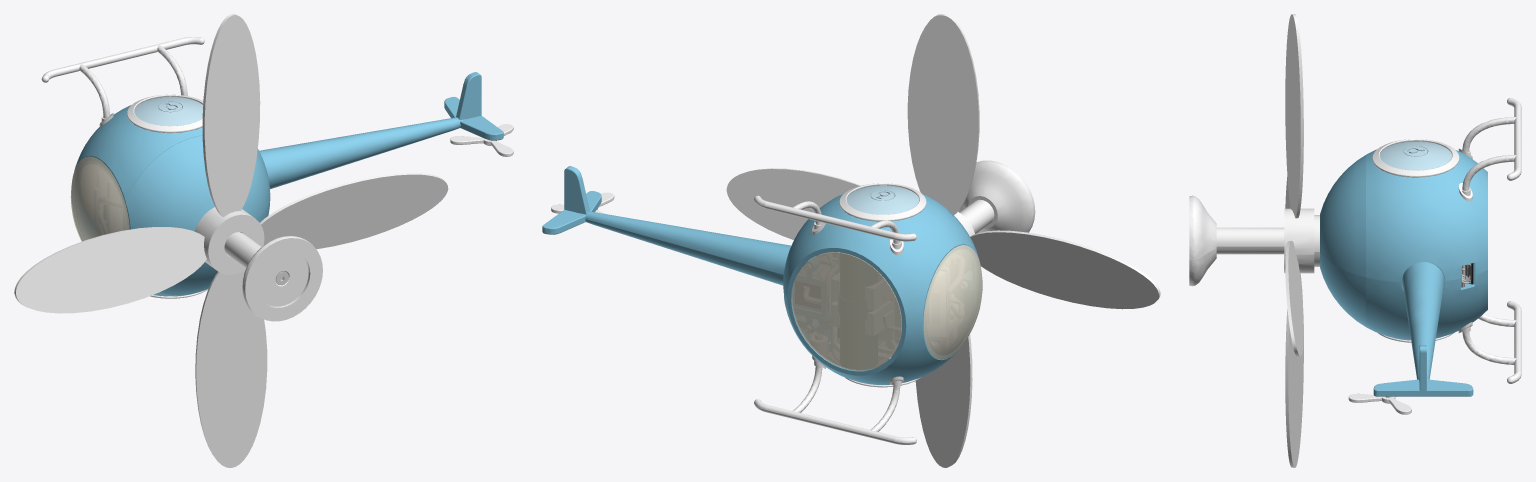
Rendered from helicopter.glb.
3 views of the same model, side by side, from view 1: azimuth 30°, elevation 25°; view 2: azimuth 150°, elevation 25°; view 3: azimuth 270°, elevation 25° (orthographic).
Parts seen in each view (by area): view 1: o1.10, o1.41, o1.8, o1.12.1, o1.3, o1.6.1, o1.13, o1.30, o1.16, o1.31.1, o1.11, o1.15; view 2: o1.10, o1.3, o1.7.1, o1.8, o1.6.1, o1.12.1, o1.42.1, o1.13, o1.16, o1.31.1, o1.11; view 3: o1.3, o1.10, o1.41, o1.8, o1.12.1, o1.11, o1.13, o1.16, o1.42.1, o1.31.1, o1.15.
Part boxes in pixels (x1,y1,x2,y2): o1.10: (14,14,448,467); o1.41: (126,135,270,295); o1.8: (259,72,503,189); o1.12.1: (242,236,322,321); o1.3: (74,97,269,296); o1.6.1: (70,156,129,241); o1.13: (41,37,204,126); o1.30: (207,214,264,274); o1.16: (134,97,203,133); o1.31.1: (127,94,203,132); o1.11: (224,232,261,268); o1.15: (450,124,513,156); o1.10: (726,14,1160,467); o1.3: (783,193,977,384); o1.7.1: (791,252,901,370); o1.8: (542,166,791,285); o1.6.1: (923,245,982,359); o1.12.1: (958,160,1035,233); o1.42.1: (754,355,916,444); o1.13: (754,195,916,255); o1.16: (845,185,918,221); o1.31.1: (839,183,926,221); o1.11: (959,199,994,233); o1.3: (1366,149,1487,340); o1.10: (1285,14,1319,467); o1.41: (1320,155,1365,326); o1.8: (1373,262,1473,396); o1.12.1: (1189,195,1216,286); o1.11: (1216,227,1284,254); o1.13: (1458,98,1521,201); o1.16: (1379,141,1453,177); o1.42.1: (1458,301,1521,383); o1.31.1: (1372,139,1459,177); o1.15: (1348,393,1411,414).
Bounding box in the file's own units: 0.3196 × 0.25 × 0.1669.
